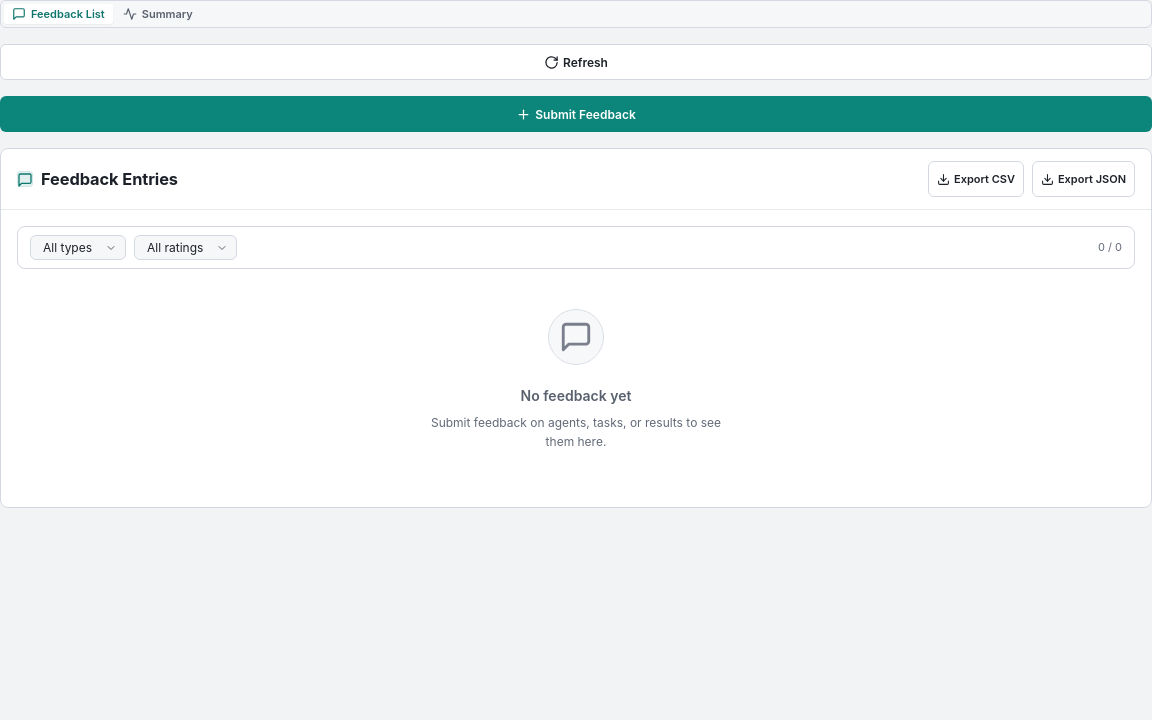
it: Feedback.vue › opens submit feedback modal when Submit Feedback button clicked
Click the button "Submit Feedback" at (576, 114), box [0,96,1151,132]
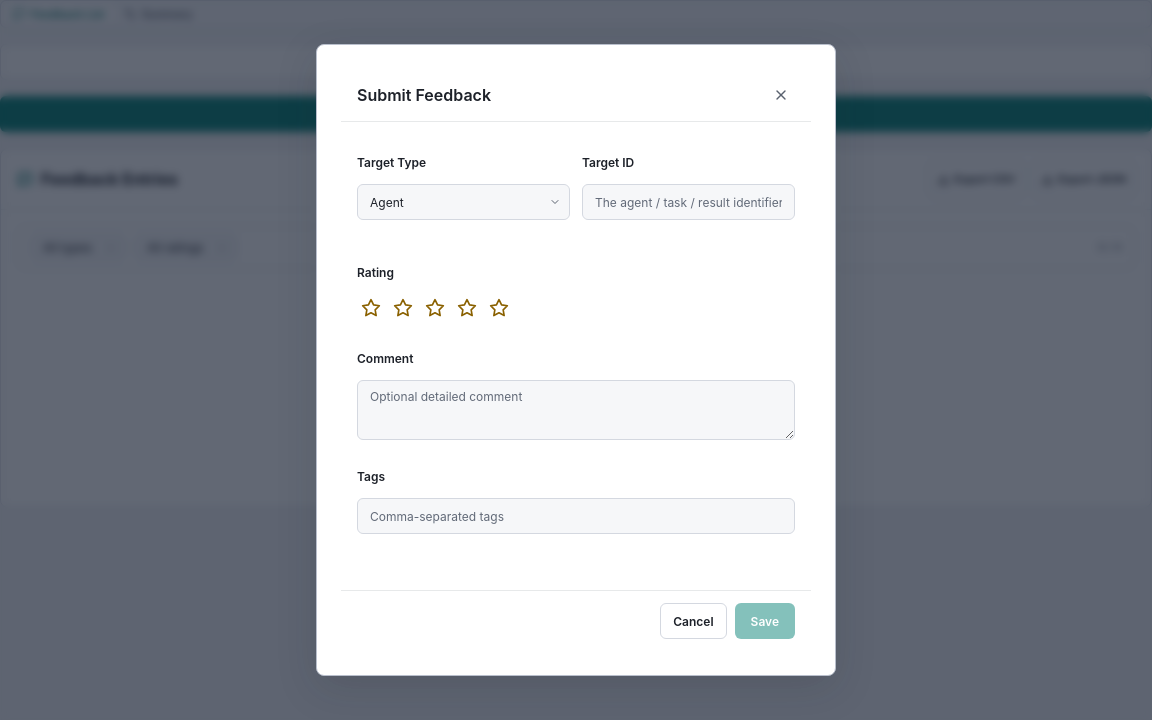
expect the dialog with class "modal-overlay" is shown: met
